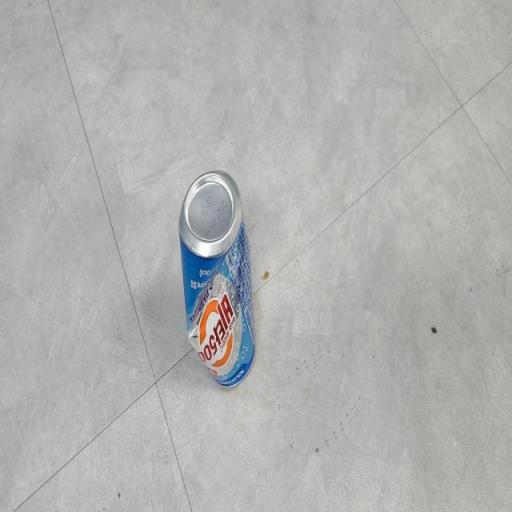metal: (172, 156, 262, 394)
